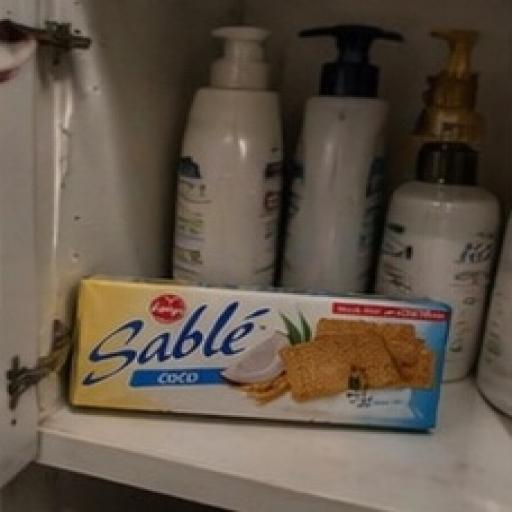sable: (35, 226, 503, 472)
